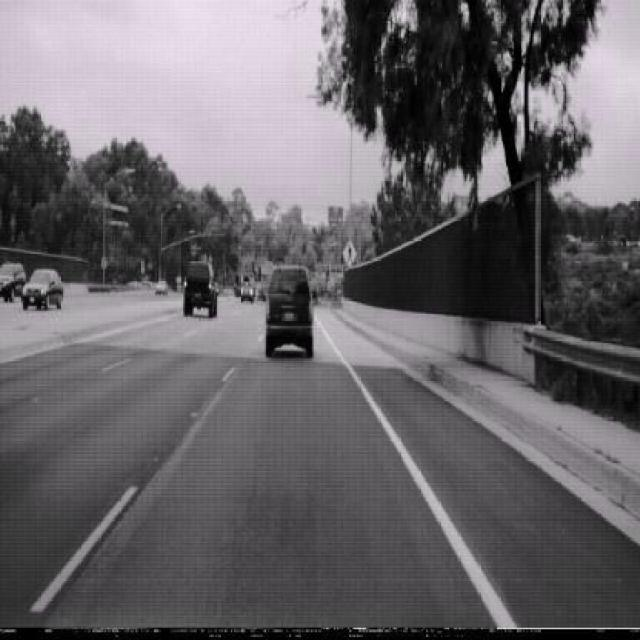pedestrianCrossing: (342, 238, 358, 270)
